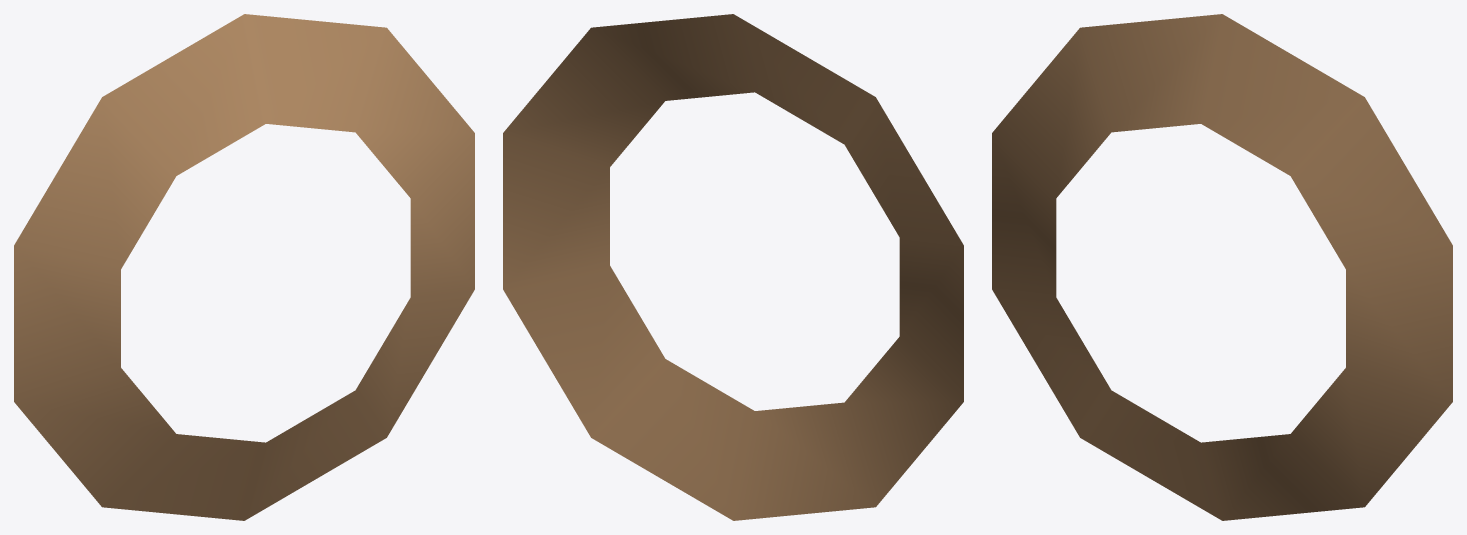
File: agm_gun_305_barrel_001_1_agm_gun_305_barrel_001_1.obj
3 views of the same model, side by side, from view 1: azimuth 30°, elevation 25°; view 2: azimuth 150°, elevation 25°; view 3: azimuth 330°, elevation 25° (orthographic).
Parts seen in each view (by area): view 1: agm_gun_305_barrel_001_1_agm_gun_305_barrel_001_1; view 2: agm_gun_305_barrel_001_1_agm_gun_305_barrel_001_1; view 3: agm_gun_305_barrel_001_1_agm_gun_305_barrel_001_1.
Boxes of the visible parts, bbox=[...] form: agm_gun_305_barrel_001_1_agm_gun_305_barrel_001_1: bbox=[14, 14, 474, 520]; agm_gun_305_barrel_001_1_agm_gun_305_barrel_001_1: bbox=[503, 14, 963, 520]; agm_gun_305_barrel_001_1_agm_gun_305_barrel_001_1: bbox=[992, 14, 1452, 520].
Bounding box in the file's own units: 0.5567 × 0.5853 × 0.045.
